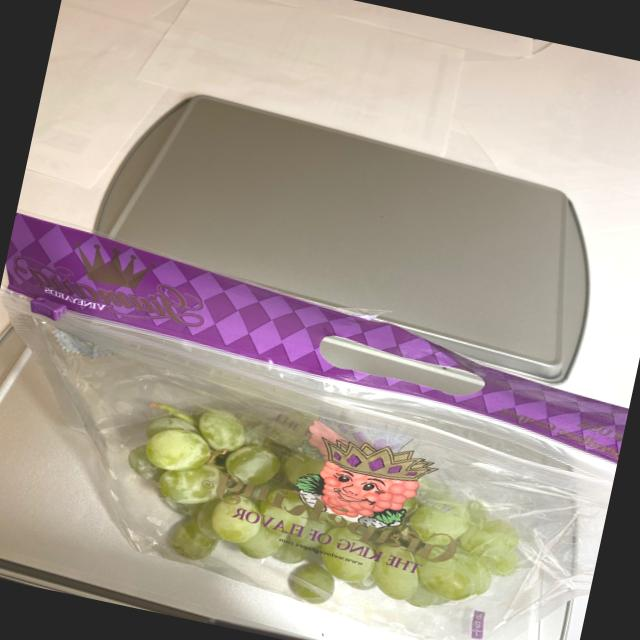grapes: (86, 380, 564, 640)
